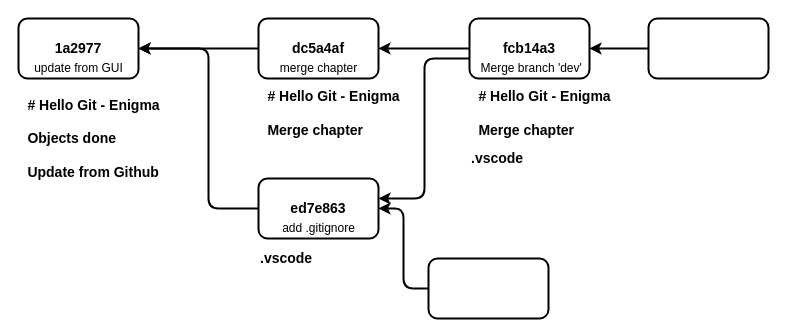
Image size: 786x336. Some labels were removed from this diagram. Each missing label, with the centre of its shape:
"Dev" belongs at (488,288).
"Master" belongs at (708,48).
